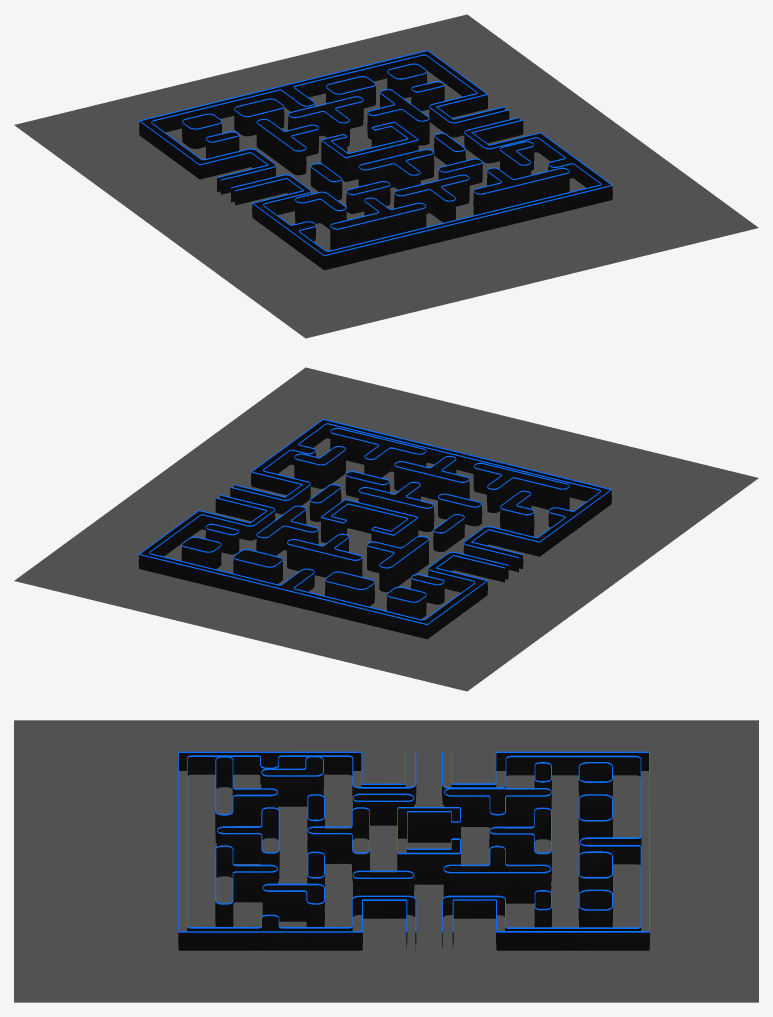
3 renders of one model, top to bottom at view 1: azimuth 30°, elevation 25°; view 2: azimuth 150°, elevation 25°; view 3: azimuth 270°, elevation 25°, orthographic. The views are drawn at different scales.
Visible parts, largest first — view 1: Plano_2, Blue Lights_3, Pack Man Map Blue Lights_1; view 2: Plano_2, Blue Lights_3, Pack Man Map Blue Lights_1; view 3: Plano_2, Blue Lights_3, Pack Man Map Blue Lights_1.
Boxes of the visible parts, x1=… form: Plano_2: x1=14, y1=14, x2=758, y2=338; Blue Lights_3: x1=139, y1=51, x2=612, y2=270; Pack Man Map Blue Lights_1: x1=139, y1=50, x2=612, y2=256; Plano_2: x1=14, y1=367, x2=758, y2=691; Blue Lights_3: x1=138, y1=420, x2=611, y2=639; Pack Man Map Blue Lights_1: x1=139, y1=419, x2=611, y2=625; Plano_2: x1=14, y1=720, x2=758, y2=1002; Blue Lights_3: x1=178, y1=753, x2=649, y2=950; Pack Man Map Blue Lights_1: x1=178, y1=751, x2=649, y2=932.
Size of the model in its own units: 16 by 0.9645 by 17.84.
